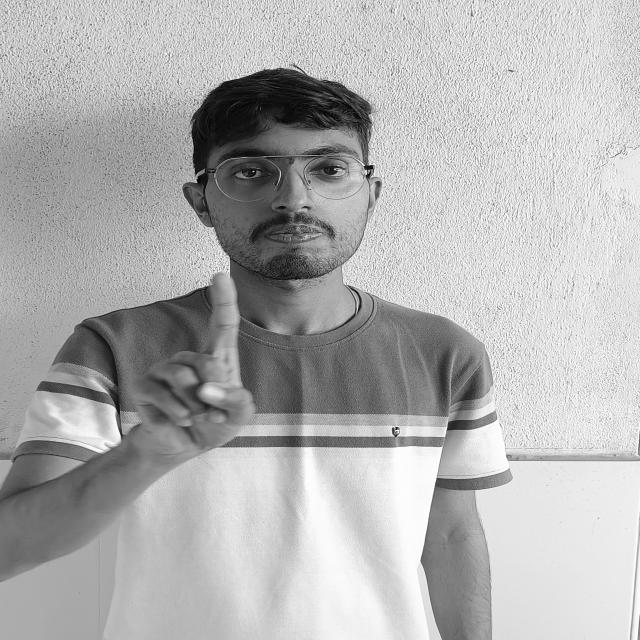Question: (79, 268, 344, 478)
